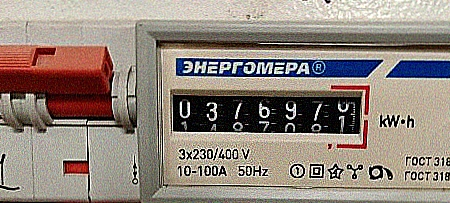0: (177, 96, 191, 118)
1: (335, 113, 347, 133)
3: (204, 99, 219, 121)
6: (256, 95, 271, 118)
7: (229, 96, 244, 119), (310, 98, 324, 121)
9: (282, 97, 297, 120)
screen: (161, 79, 372, 152)
